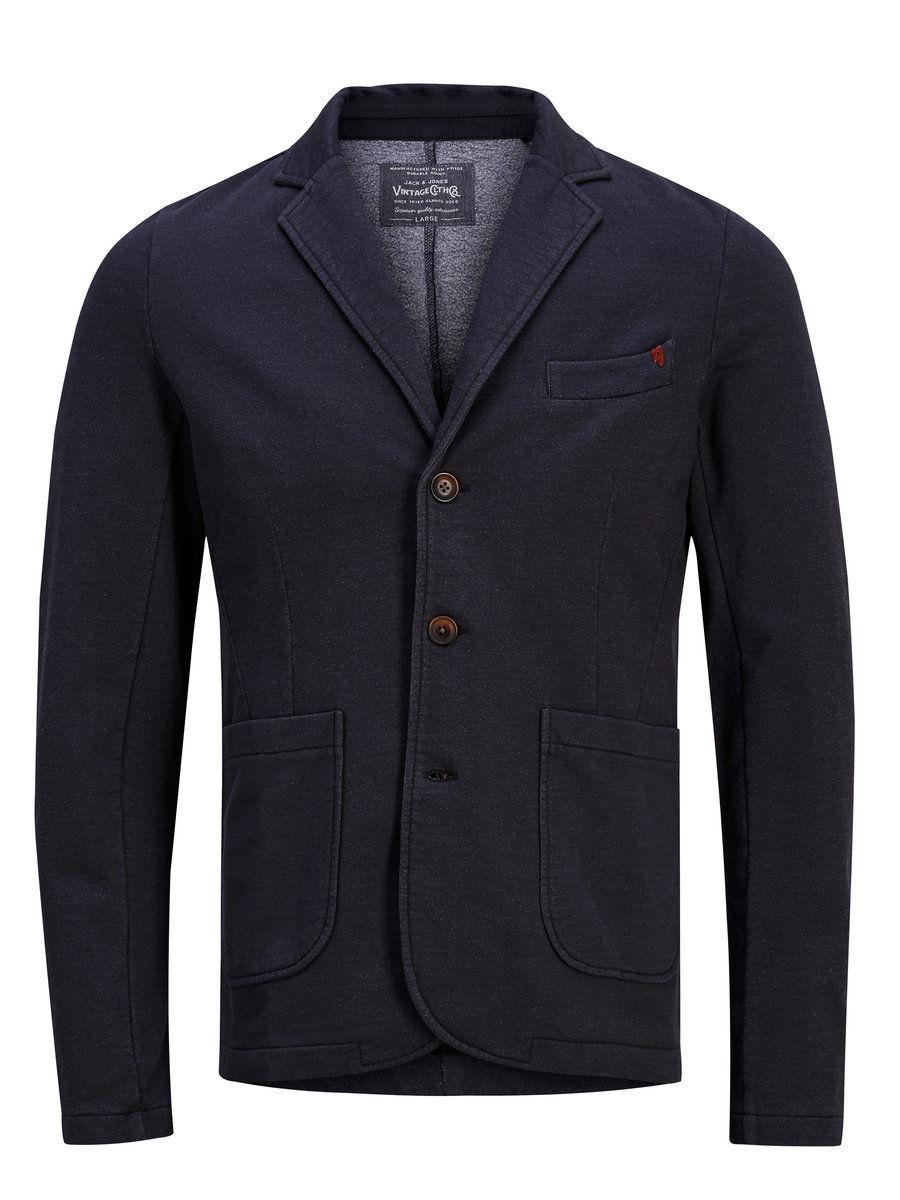teeshirt: (34, 82, 854, 1154)
